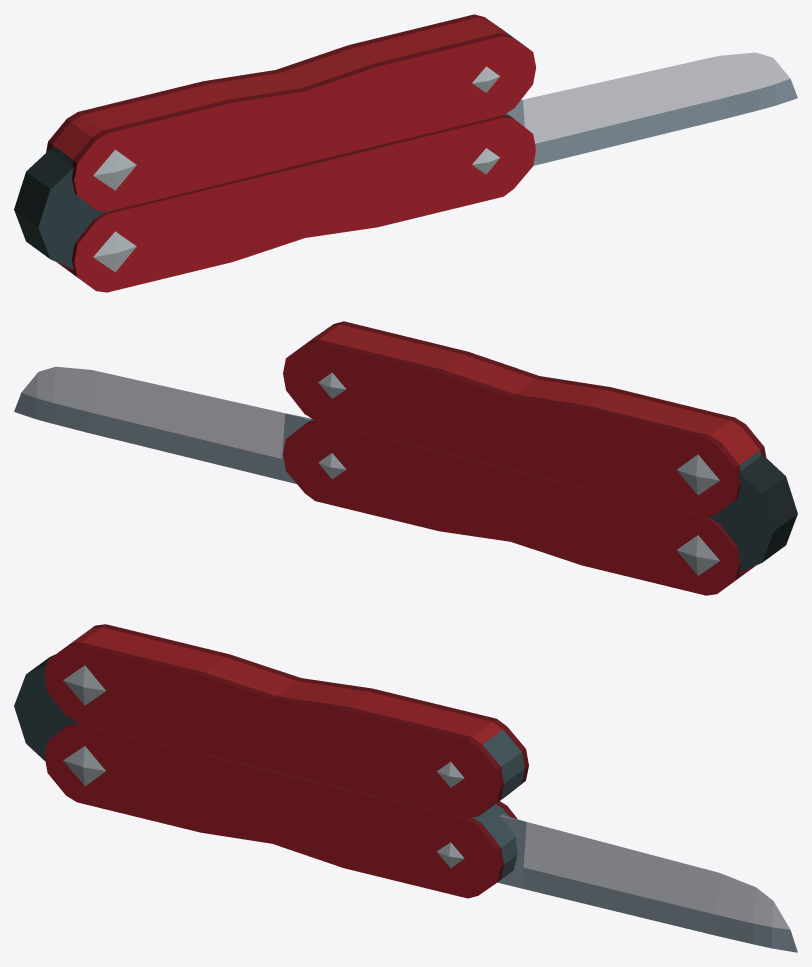
File: Multitool.fbx
3 renders of one model, top to bottom at view 1: azimuth 30°, elevation 25°; view 2: azimuth 150°, elevation 25°; view 3: azimuth 330°, elevation 25°, orthographic.
Visible parts, largest first — view 1: ZomboidMultitool; view 2: ZomboidMultitool; view 3: ZomboidMultitool.
Part boxes in pixels (<box>): ZomboidMultitool: <box>14,14,797,292</box>; ZomboidMultitool: <box>14,321,797,595</box>; ZomboidMultitool: <box>14,624,797,952</box>.
Size of the model in its own units: 0.2237 by 0.0442 by 0.0166.
